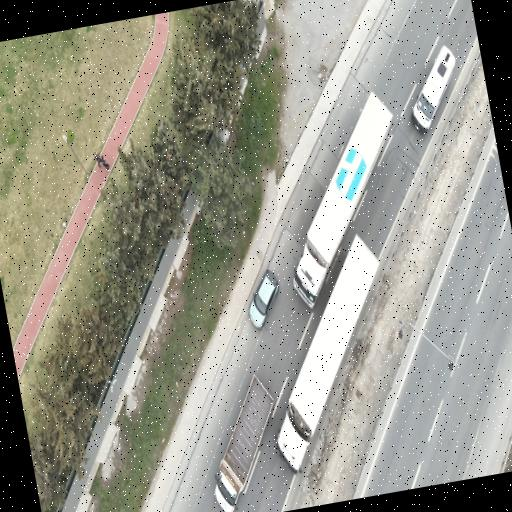car: (249, 270, 279, 328)
person: (92, 150, 104, 166), (102, 158, 111, 172)
truck: (276, 236, 379, 472), (293, 93, 392, 308), (215, 376, 273, 511), (412, 47, 455, 131)
